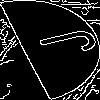J: (25, 25, 100, 64)
